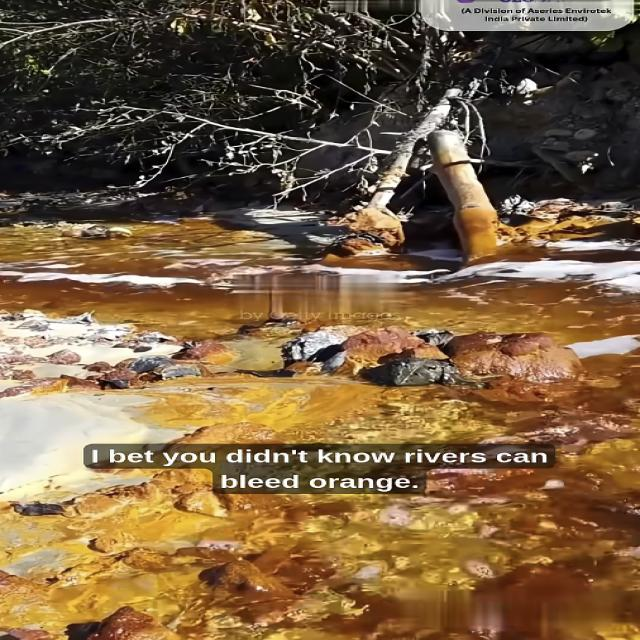yellow_boy: (0, 221, 639, 639)
